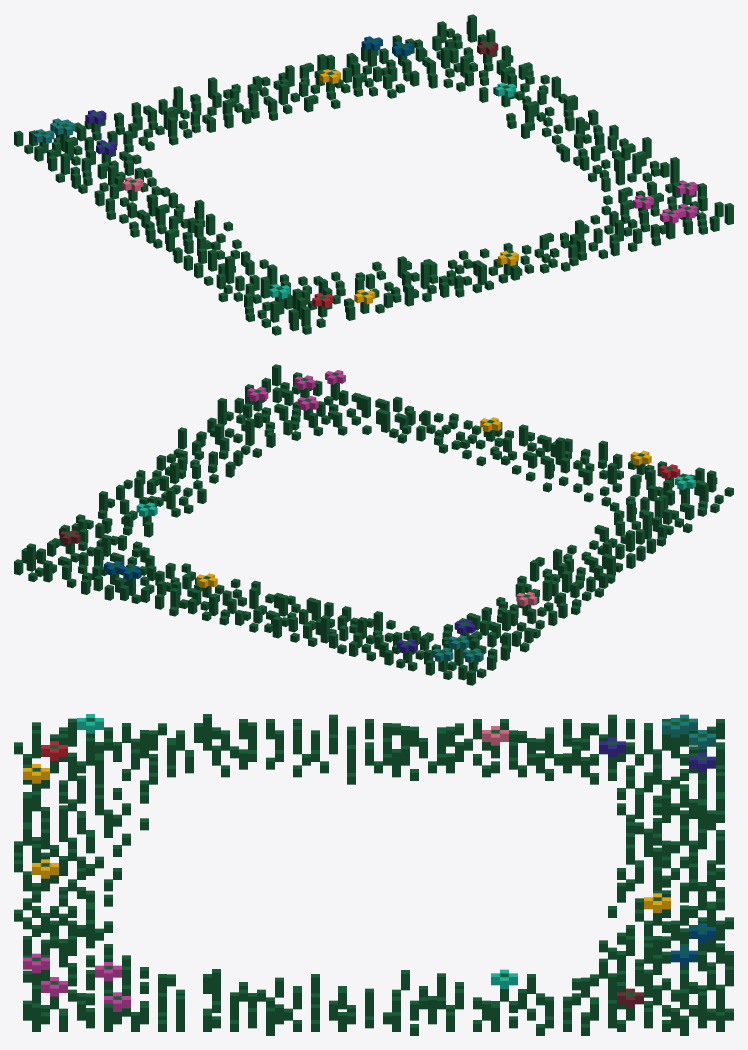
Rendered from grass_1_overtile.glb.
3 views of the same model, one above another, from view 1: azimuth 30°, elevation 25°; view 2: azimuth 150°, elevation 25°; view 3: azimuth 270°, elevation 25° (orthographic). The views are drawn at different scales.
Visible parts, largest first — view 1: grass_1_overtile; view 2: grass_1_overtile; view 3: grass_1_overtile.
Boxes of the visible parts, x1,y1,x2,y2 form: grass_1_overtile: (14,14,733,335); grass_1_overtile: (14,364,733,685); grass_1_overtile: (14,714,733,1035).
Bounding box in the file's own units: 8 × 0.4 × 8.
Materials: 1 (1 with a texture image).
